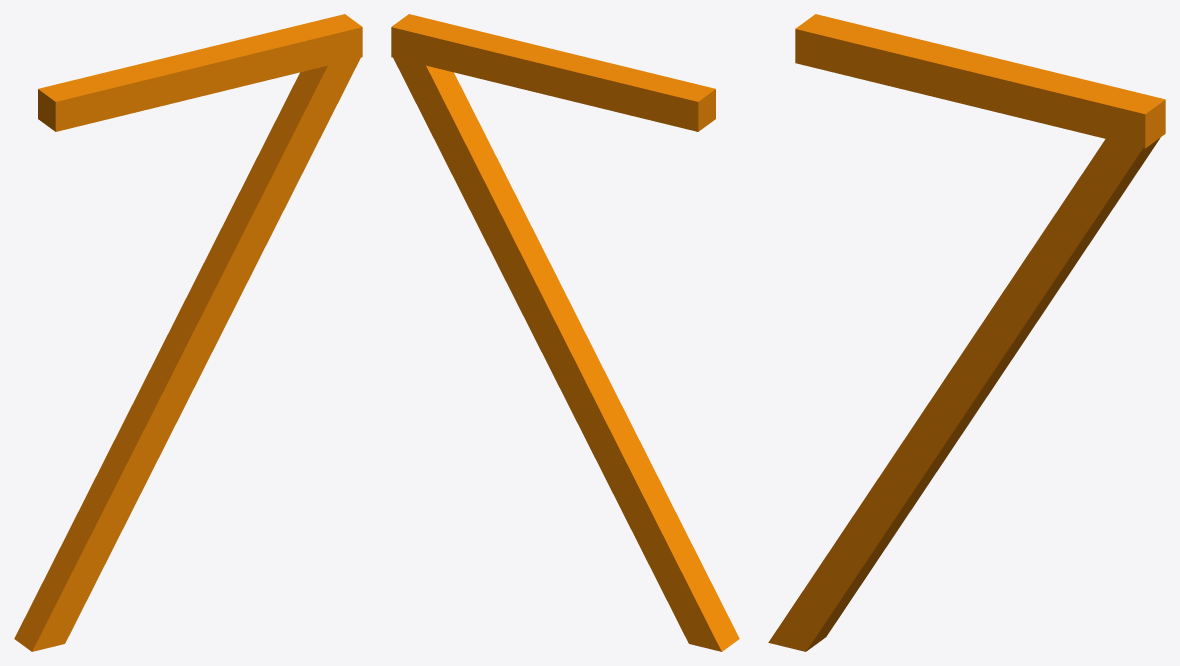
3 renders of one model, left to right at view 1: azimuth 30°, elevation 25°; view 2: azimuth 150°, elevation 25°; view 3: azimuth 330°, elevation 25°, orthographic. The views are drawn at different scales.
Visible parts, largest first — view 1: 7; view 2: 7; view 3: 7.
Boxes of the visible parts, x1,y1,x2,y2 form: 7: [14, 14, 362, 651]; 7: [391, 14, 739, 651]; 7: [768, 14, 1165, 651].
Size of the model in its own units: 53.49 by 84.1 by 5.
